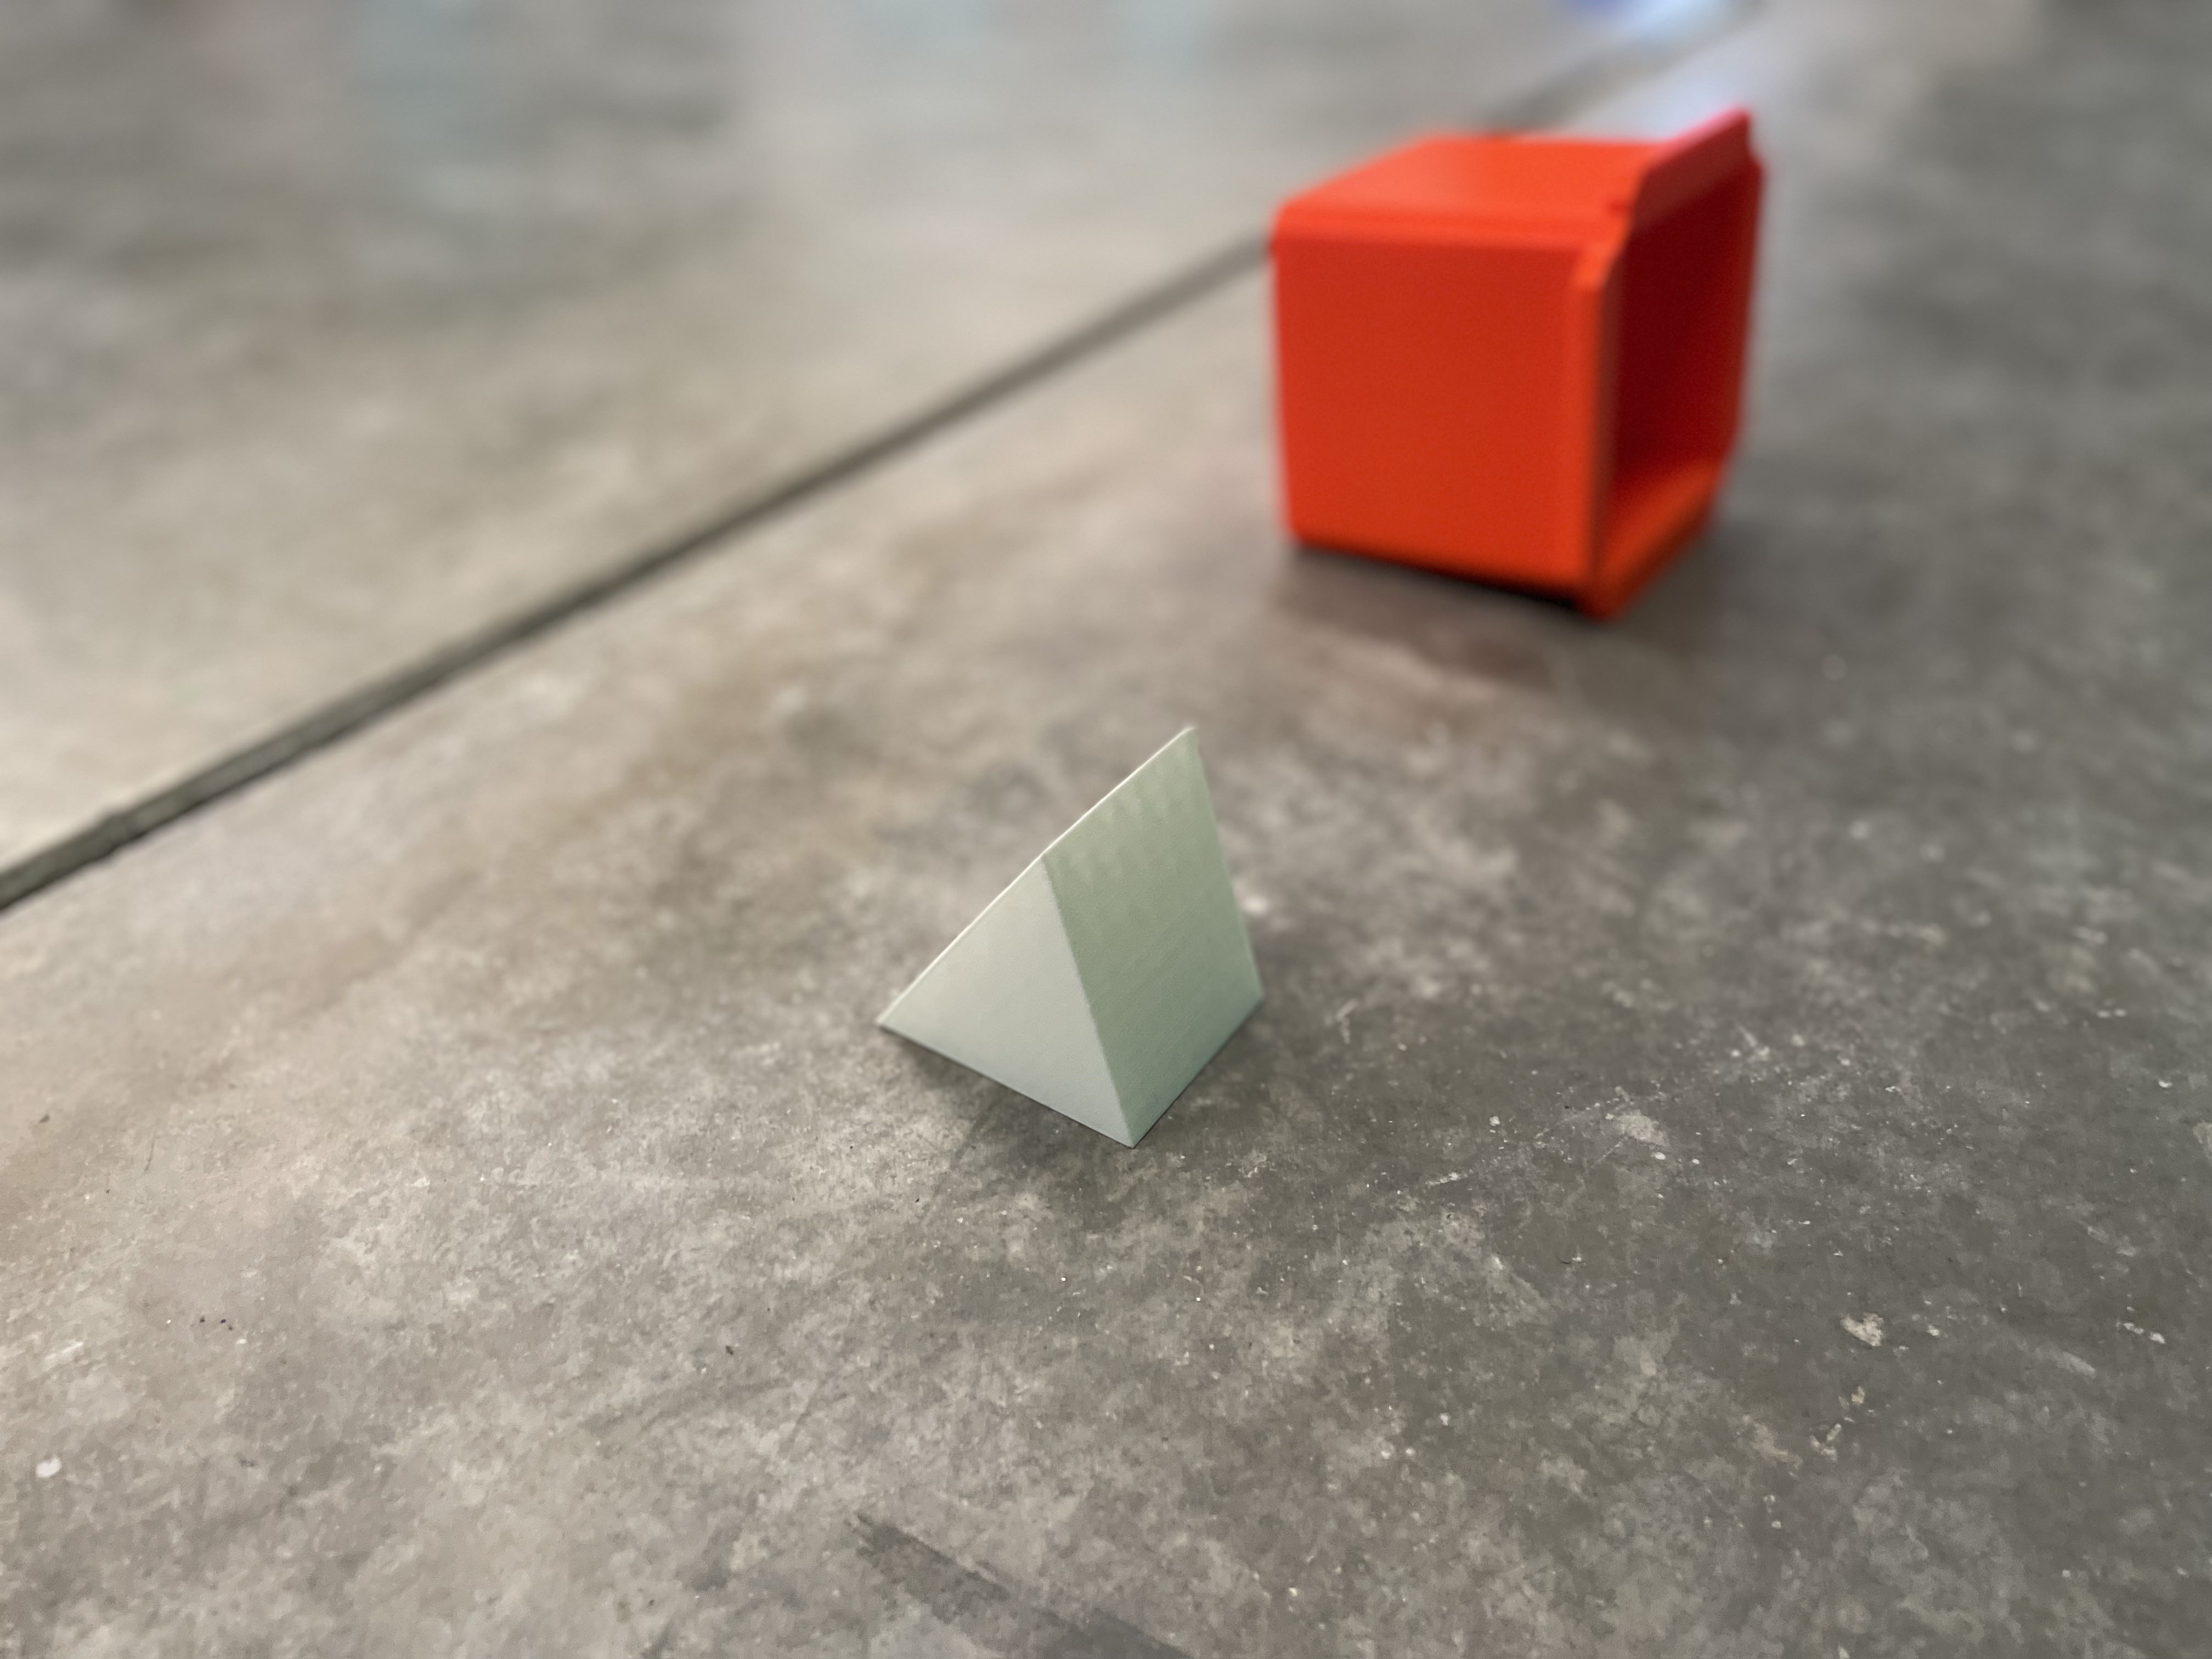payload1: (1249, 94, 1806, 659)
payload2: (862, 704, 1282, 1192)
